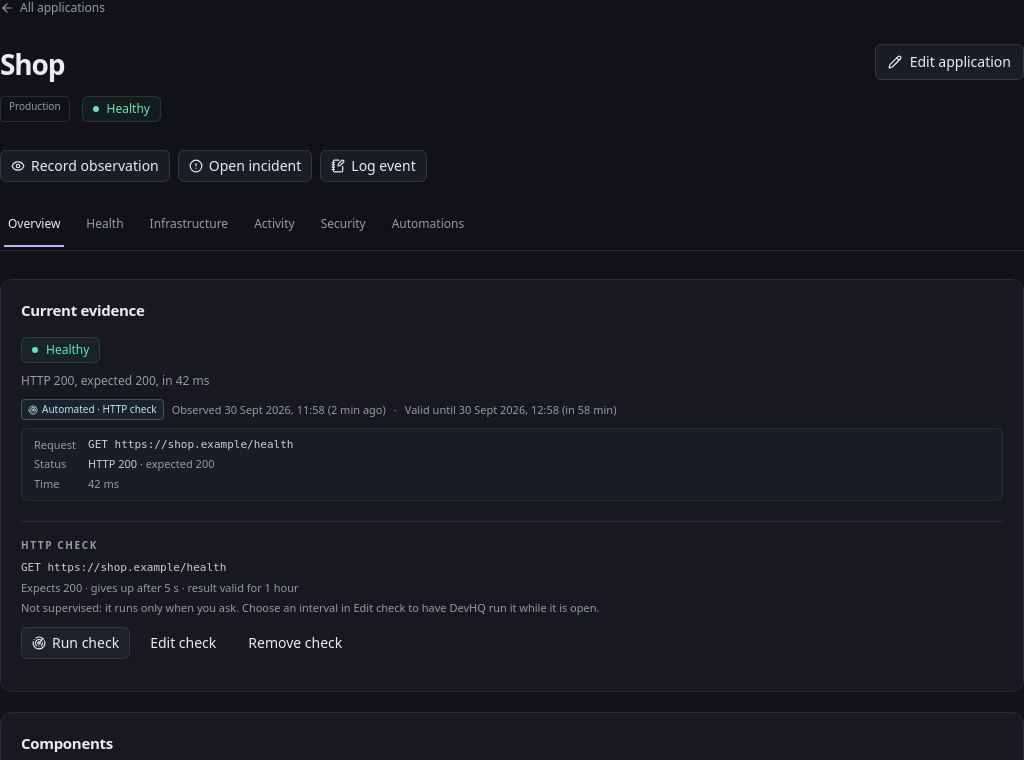
HTTP check provenance in real views › distinguishes sources in application detail, observation history and activity
The image size is (1024, 760).
Check: the text "GET https://shop.example/health" next to "Request" is shown, box [88,438,293,451]
Check: the text "Manual entry" is not shown
Click the tab "Health" at [105, 228], box [81,214,129,242]
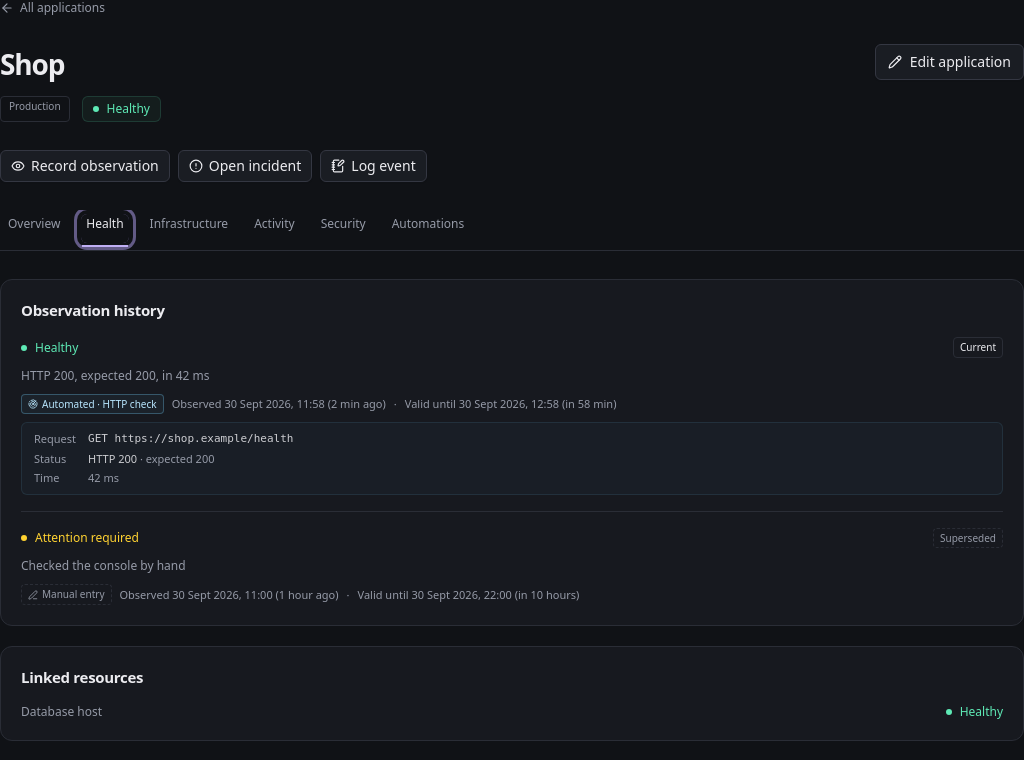
Check: the text "Automated · HTTP check" is shown, box [42,397,157,411]
Check: the text "Manual entry" is shown, box [42,587,104,602]
Check: the text "Superseded" is shown, box [933,528,1003,548]
Click the tab "Activity" at [274, 228], box [249,214,300,242]
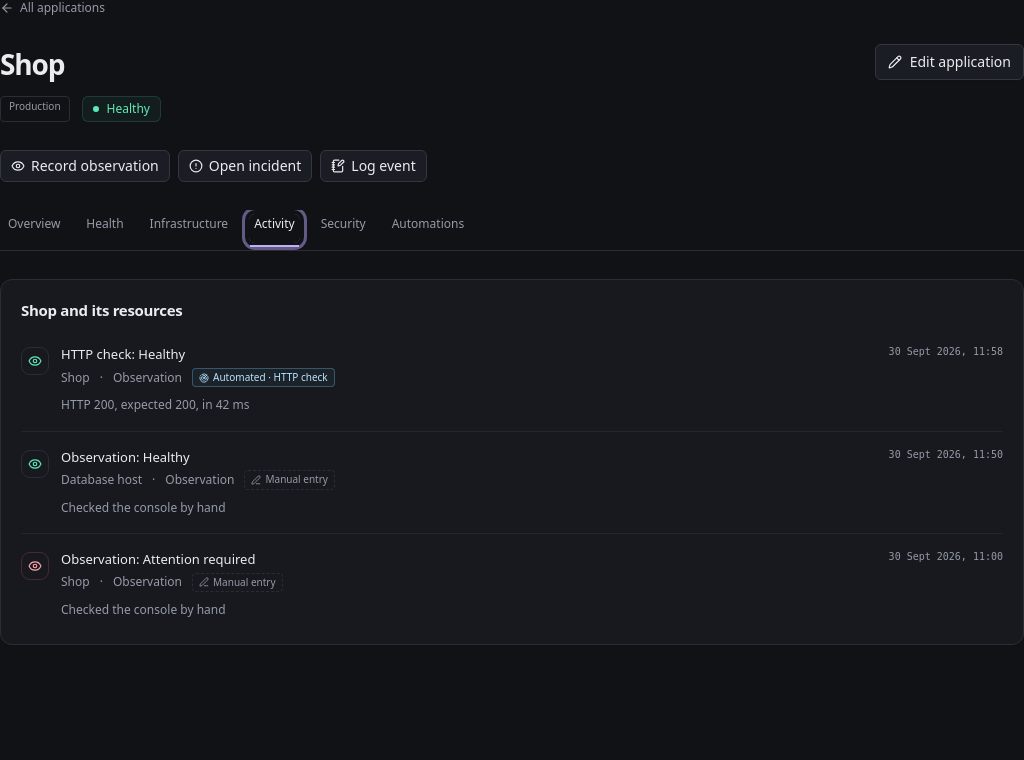
Check: the text "HTTP check: Healthy" is shown, box [61,345,185,364]
Check: the text "Automated · HTTP check" is shown once, box [213,371,328,384]
Check: the text "Manual entry" is shown 2 times, box [266,473,328,487]; [213,576,276,589]
